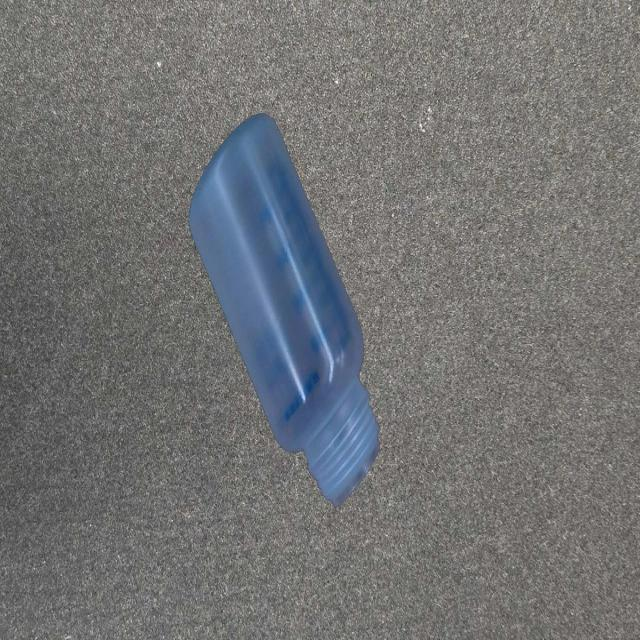bottle: (188, 112, 382, 510)
